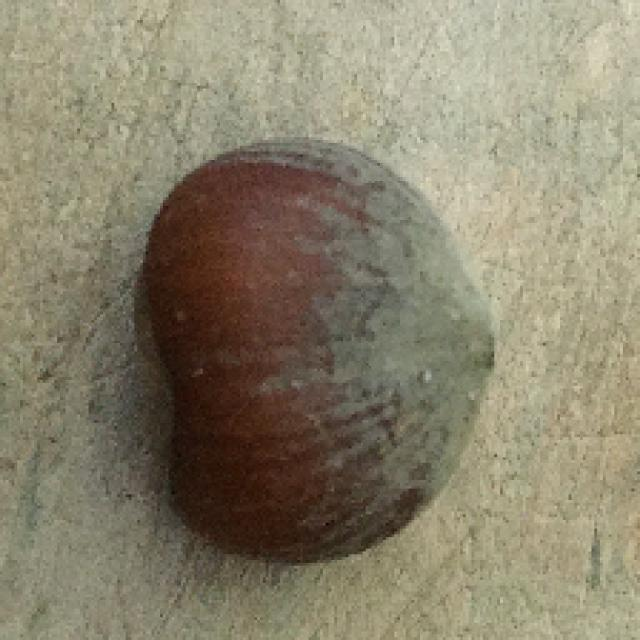qualityHazelnut: (132, 141, 496, 555)
